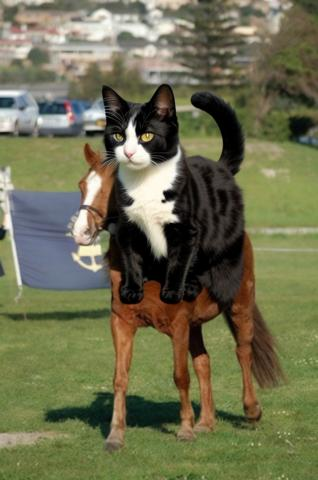car: (84, 87, 161, 140), (34, 92, 82, 138), (1, 91, 40, 140)
cat: (101, 84, 245, 304)
horse: (71, 142, 291, 448)
